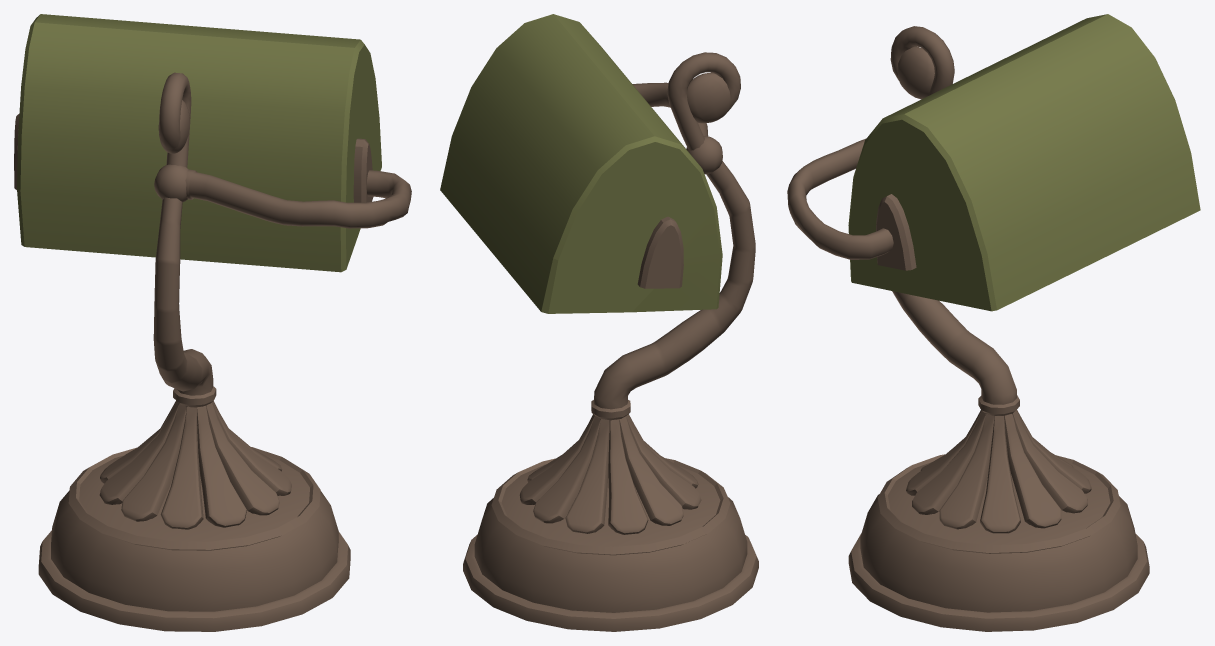
File: lampe.fbx
3 renders of one model, left to right at view 1: azimuth 30°, elevation 25°; view 2: azimuth 150°, elevation 25°; view 3: azimuth 270°, elevation 25°, orthographic. The views are drawn at different scales.
Visible parts, largest first — view 1: lampe; view 2: lampe; view 3: lampe.
Boxes of the visible parts, x1,y1,x2,y2 form: lampe: [14, 14, 411, 631]; lampe: [440, 14, 758, 631]; lampe: [787, 14, 1200, 631].
Size of the model in its own units: 0.1819 by 0.2807 by 0.2054.
